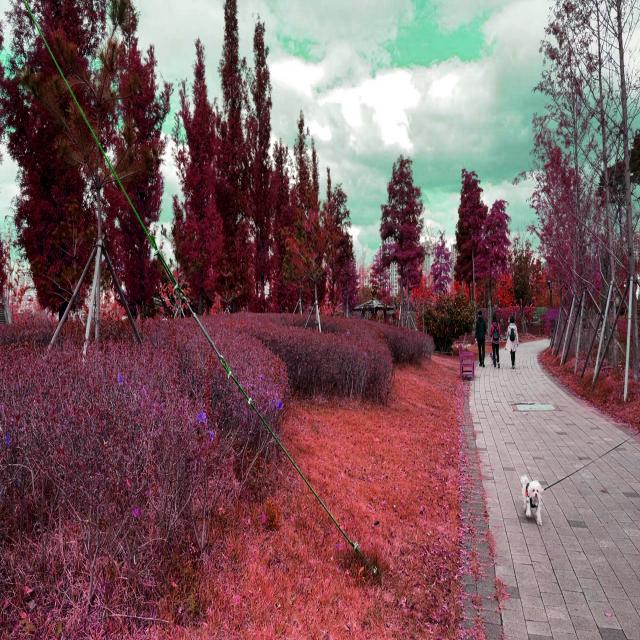Dog: (520, 472, 542, 526)
